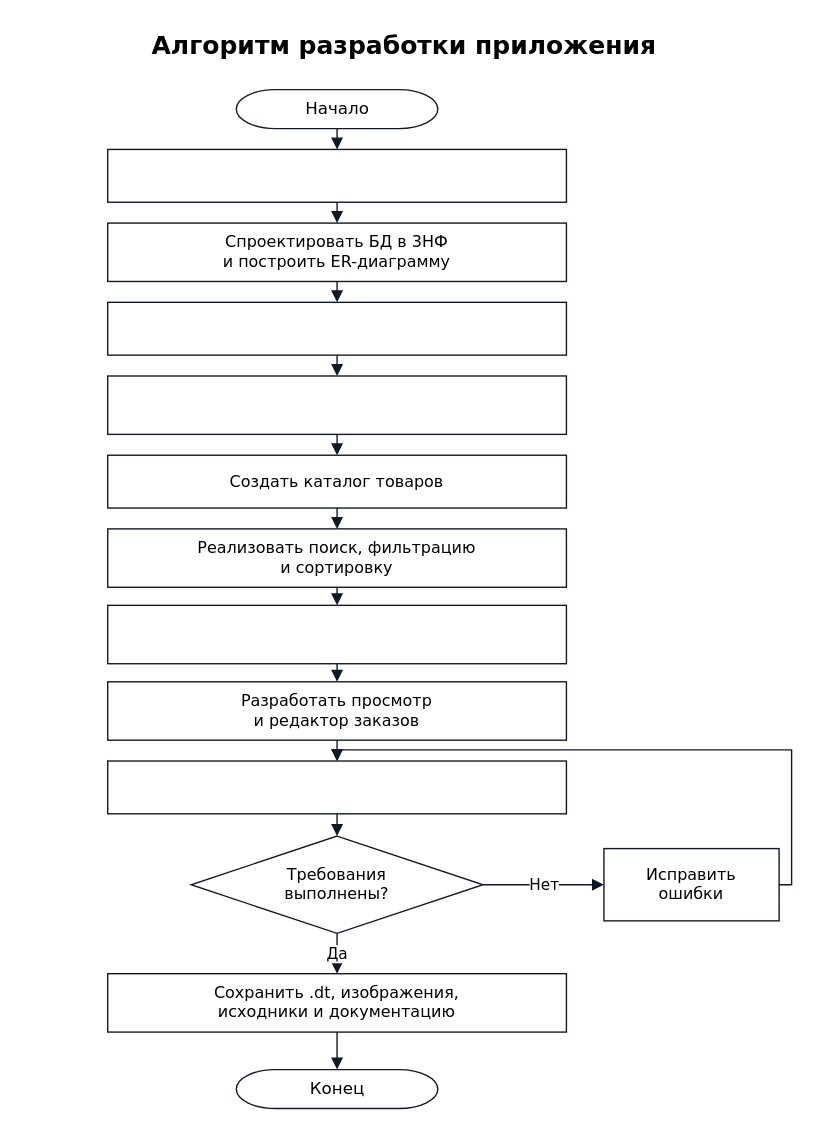
This 827x1133 diagram has some shape labels left out. The centre of each missing label's shape, as x and y in pixels:
Выполнить отладку и тестирование: pixel 336 787
Изучить задание и требования: pixel 336 175
Разработать авторизацию и разграничение доступа: pixel 336 404
Создать БД и импортировать данные: pixel 336 328
Создать редактор товаров и работу с фотографиями: pixel 336 634
